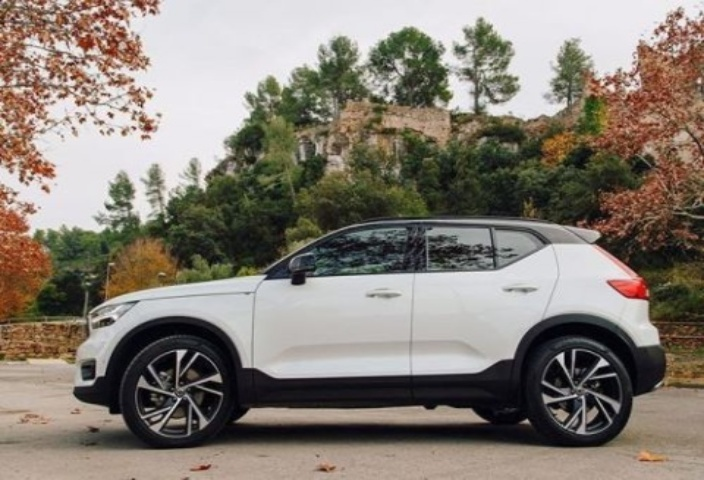camper: (39, 183, 704, 478)
